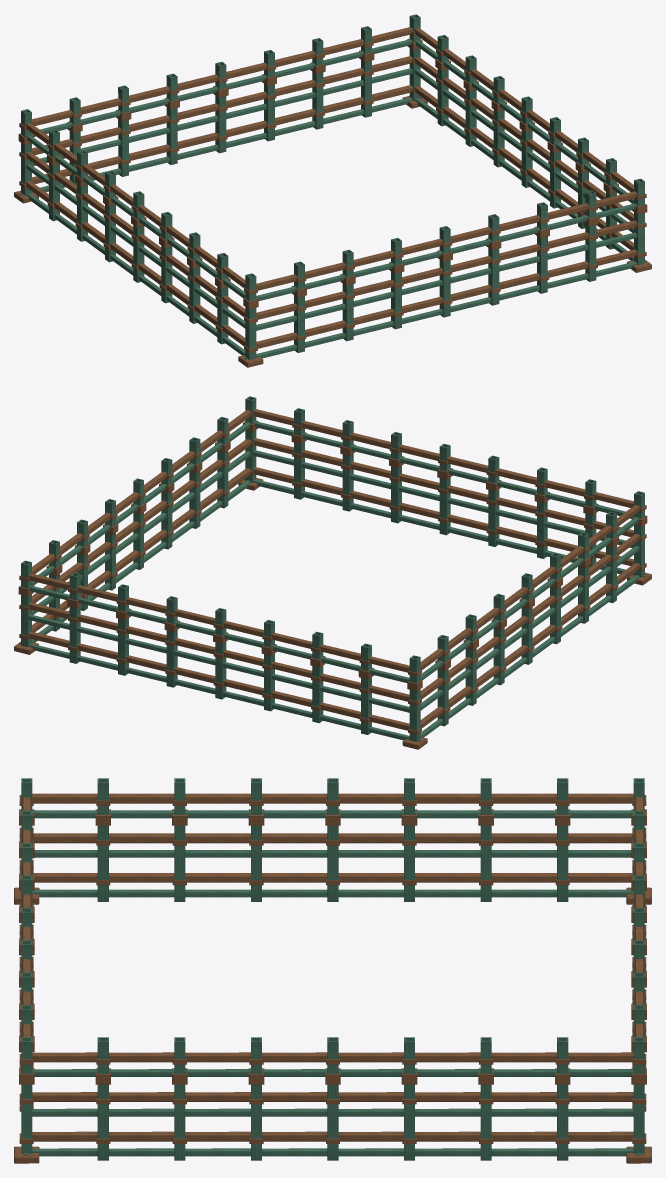
3 renders of one model, top to bottom at view 1: azimuth 30°, elevation 25°; view 2: azimuth 150°, elevation 25°; view 3: azimuth 270°, elevation 25°, orthographic. The views are drawn at different scales.
Parts seen in each view (by area): view 1: Tier 0 side 0 post 5, Tier 0 side 2 post 4, Tier 0 side 2 post 2, Tier 0 side 0 post 7, Tier 0 side 0 post 2, Tier 0 side 0 post 4, Tier 0 side 0 post 0, Tier 0 side 2 post 5; view 2: Tier 0 side 2 post 3, Tier 0 side 0 post 4, Tier 0 side 0 post 6, Tier 0 side 2 post 6, Tier 0 side 2 post 1, Tier 0 side 2 post 4, Tier 0 side 3 post 0, Tier 0 side 0 post 3; view 3: Tier 0 side 3 post 4, Tier 0 side 3 post 1, Tier 0 side 3 post 2, Tier 0 side 3 post 6, Tier 0 side 3 post 7, Tier 0 side 1 post 4, Tier 0 side 1 post 1, Tier 0 side 1 post 2, Tier 0 side 1 post 6, Tier 0 side 1 post 7, Tier 0 side 3 post 3, Tier 0 side 3 post 5 (+84 smaller).
Boxes of the visible parts, x1,y1,x2,y2 form: Tier 0 side 0 post 5: [488, 248, 499, 305]; Tier 0 side 2 post 4: [215, 95, 226, 153]; Tier 0 side 2 post 2: [312, 72, 323, 129]; Tier 0 side 0 post 7: [585, 224, 596, 281]; Tier 0 side 0 post 2: [342, 283, 353, 341]; Tier 0 side 0 post 4: [439, 260, 450, 317]; Tier 0 side 0 post 0: [245, 307, 256, 359]; Tier 0 side 2 post 5: [166, 107, 177, 164]; Tier 0 side 2 post 3: [166, 630, 177, 687]; Tier 0 side 0 post 4: [439, 477, 450, 535]; Tier 0 side 0 post 6: [342, 454, 353, 511]; Tier 0 side 2 post 6: [312, 665, 323, 723]; Tier 0 side 2 post 1: [69, 606, 80, 663]; Tier 0 side 2 post 4: [215, 642, 226, 699]; Tier 0 side 3 post 0: [409, 689, 420, 741]; Tier 0 side 0 post 3: [488, 489, 499, 546]; Tier 0 side 3 post 4: [327, 825, 338, 901]; Tier 0 side 3 post 1: [557, 825, 568, 901]; Tier 0 side 3 post 2: [480, 825, 491, 901]; Tier 0 side 3 post 6: [174, 825, 185, 901]; Tier 0 side 3 post 7: [97, 825, 108, 901]; Tier 0 side 1 post 4: [327, 1084, 338, 1160]; Tier 0 side 1 post 1: [97, 1084, 108, 1160]; Tier 0 side 1 post 2: [174, 1084, 185, 1160]; Tier 0 side 1 post 6: [480, 1084, 491, 1160]; Tier 0 side 1 post 7: [557, 1084, 568, 1160]; Tier 0 side 3 post 3: [404, 825, 414, 901]; Tier 0 side 3 post 5: [251, 825, 261, 901].
Size of the model in its own units: 3.75 by 0.7714 by 3.75.
Materials: 2 (2 with a texture image).
